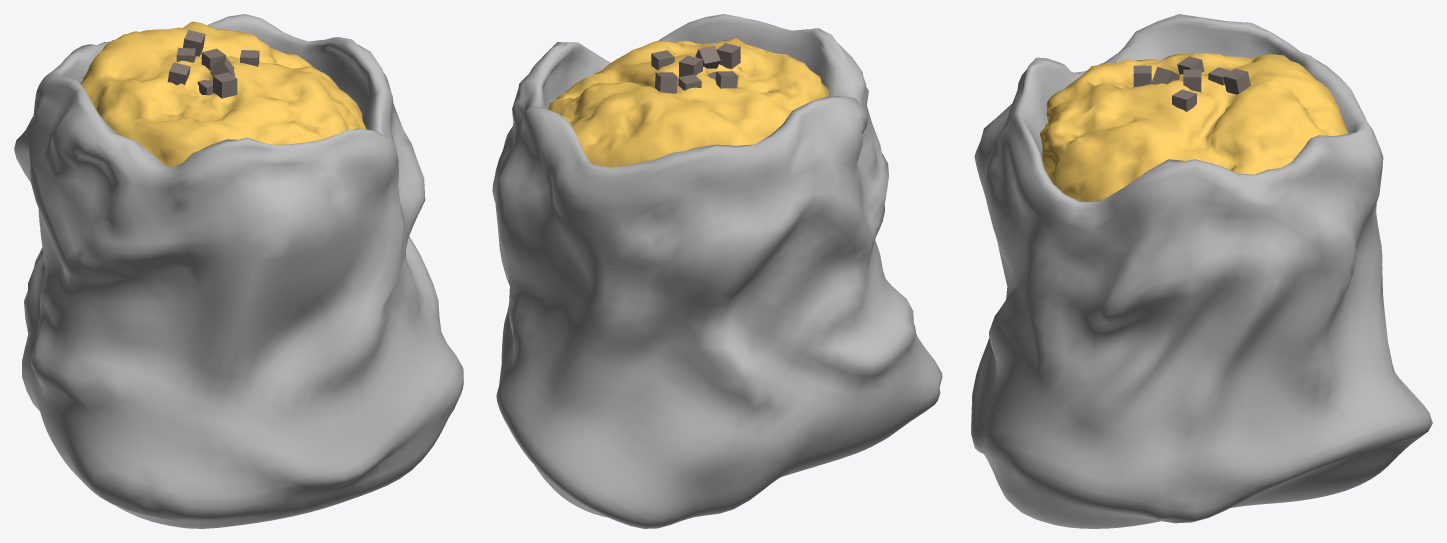
The model's file is shaomai_low.fbx.
The picture shows the model from 3 angles, left to right: view 1: azimuth 30°, elevation 25°; view 2: azimuth 150°, elevation 25°; view 3: azimuth 270°, elevation 25°; orthographic projection.
Visible parts, largest first — view 1: shaomai_low, meat_low, pCube7_low; view 2: shaomai_low, meat_low; view 3: shaomai_low, meat_low, pCube6_low.
Boxes of the visible parts, left/top/right/bottom form: shaomai_low: left=14, top=14, right=463, bottom=528; meat_low: left=80, top=21, right=366, bottom=166; pCube7_low: left=213, top=72, right=237, bottom=98; shaomai_low: left=492, top=14, right=942, bottom=528; meat_low: left=548, top=38, right=828, bottom=166; shaomai_low: left=971, top=14, right=1432, bottom=528; meat_low: left=1040, top=53, right=1348, bottom=202; pCube6_low: left=1223, top=68, right=1250, bottom=94.
Bounding box in the file's own units: 2.25 × 2.28 × 2.3.
